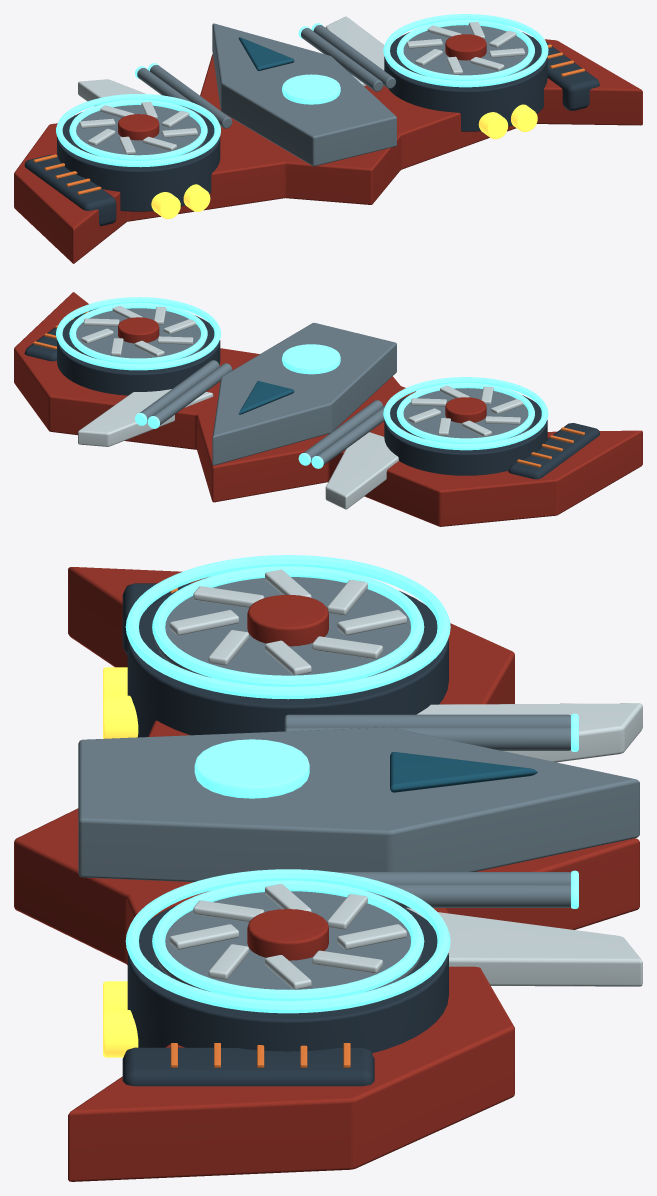
Rendered from Tempest.fbx.
3 views of the same model, one above another, from view 1: azimuth 30°, elevation 25°; view 2: azimuth 150°, elevation 25°; view 3: azimuth 270°, elevation 25° (orthographic). The views are drawn at different scales.
Visible parts, largest first — view 1: Storm crescent, Diamond bridge, Turbine armored drum, Turbine armored drum.001, Recessed turbine well.001, Recessed turbine well, Turbine ion ring.003, Turbine ion ring.001, Missile magazine, Turbine ion ring, Turbine ion ring.002, Missile magazine.001 (+14 smaller); view 2: Storm crescent, Diamond bridge, Turbine armored drum, Turbine armored drum.001, Forward stabilizer, Forward stabilizer.001, Recessed turbine well.001, Recessed turbine well, Turbine ion ring.001, Turbine ion ring.003, Turbine ion ring, Turbine ion ring.002 (+10 smaller); view 3: Storm crescent, Diamond bridge, Turbine armored drum.001, Turbine armored drum, Forward stabilizer.001, Recessed turbine well.001, Recessed turbine well, Turbine ion ring.003, Turbine ion ring.001, Missile magazine.001, Turbine ion ring.002, Turbine ion ring (+21 smaller).
Boxes of the visible parts, <box> form: Storm crescent: <box>14,39,642,263</box>; Diamond bridge: <box>212,23,396,166</box>; Turbine armored drum: <box>57,112,220,211</box>; Turbine armored drum.001: <box>384,32,547,131</box>; Recessed turbine well.001: <box>398,25,533,75</box>; Recessed turbine well: <box>70,105,206,155</box>; Turbine ion ring.003: <box>383,14,548,87</box>; Turbine ion ring.001: <box>56,94,220,167</box>; Missile magazine: <box>24,154,116,226</box>; Turbine ion ring: <box>69,99,207,160</box>; Turbine ion ring.002: <box>396,19,534,80</box>; Missile magazine.001: <box>532,37,599,110</box>; Storm crescent: <box>14,292,642,526</box>; Diamond bridge: <box>212,322,396,465</box>; Turbine armored drum: <box>384,395,547,475</box>; Turbine armored drum.001: <box>57,315,220,395</box>; Forward stabilizer: <box>325,432,398,509</box>; Forward stabilizer.001: <box>78,389,213,446</box>; Recessed turbine well.001: <box>70,308,206,358</box>; Recessed turbine well: <box>398,388,533,438</box>; Turbine ion ring.001: <box>383,377,548,450</box>; Turbine ion ring.003: <box>56,297,220,370</box>; Turbine ion ring: <box>396,382,534,443</box>; Turbine ion ring.002: <box>69,302,207,363</box>; Storm crescent: <box>14,567,639,1181</box>; Diamond bridge: <box>78,727,639,881</box>; Turbine armored drum.001: <box>127,905,448,1053</box>; Turbine armored drum: <box>127,590,448,737</box>; Forward stabilizer.001: <box>406,908,642,986</box>; Recessed turbine well.001: <box>154,891,421,991</box>; Recessed turbine well: <box>154,577,421,677</box>; Turbine ion ring.003: <box>125,869,450,1013</box>; Turbine ion ring.001: <box>125,555,450,699</box>; Missile magazine.001: <box>122,1047,374,1086</box>; Turbine ion ring.002: <box>152,880,424,1000</box>; Turbine ion ring: <box>152,566,424,686</box>.
Bounding box in the file's own units: 1079 × 136 × 525.
